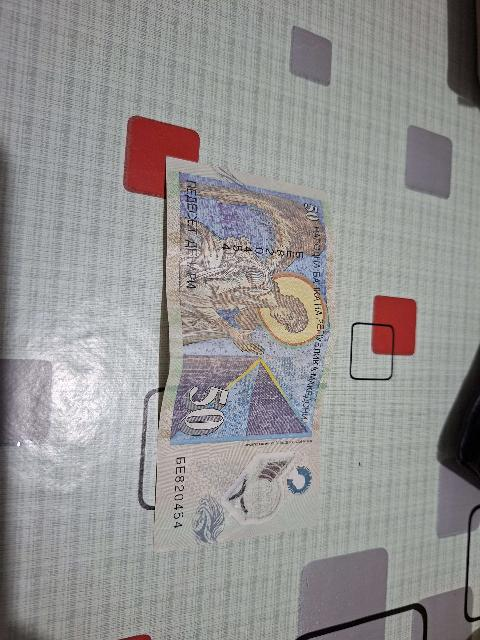50_note: (155, 159, 336, 551)
